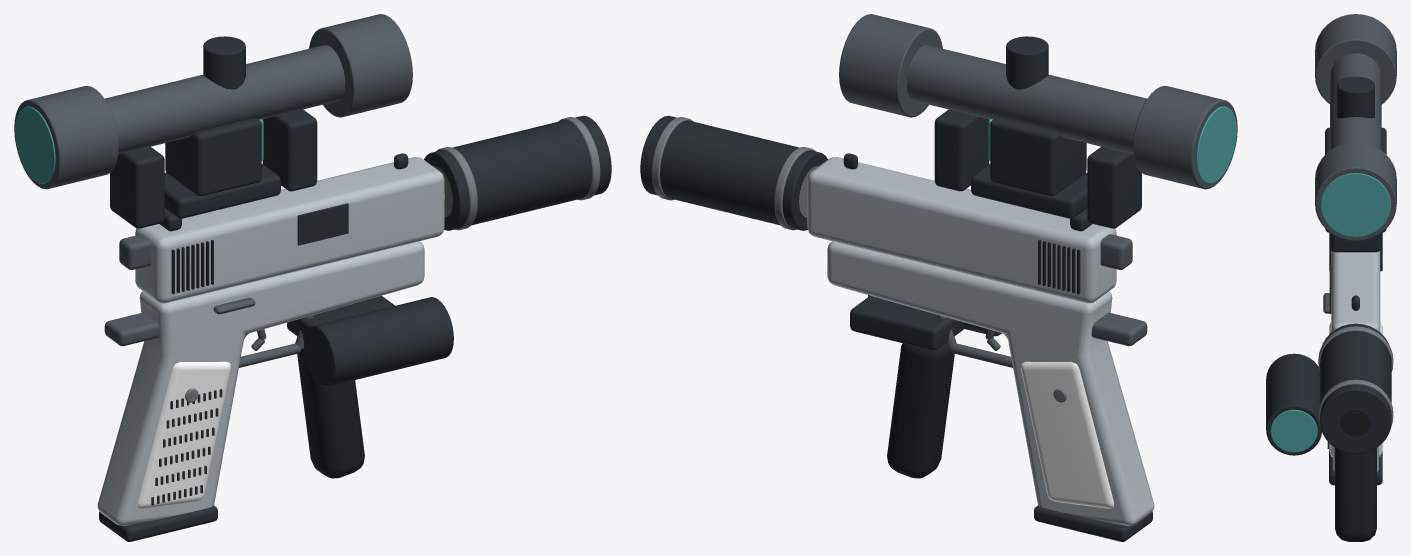
The picture shows the model from 3 angles, left to right: view 1: azimuth 30°, elevation 25°; view 2: azimuth 150°, elevation 25°; view 3: azimuth 270°, elevation 25°; orthographic projection. The views are drawn at different scales.
Visible parts, largest first — view 1: Pistol frame.001, Slide.001, optic_scope_tube.006, muzzle_suppressor.004, under_light_body.003, Grip panels.001, optic_scope_bell.013, optic_scope_bell.012, optic_red_body.006, under_grip_body.003, optic_scope_mount.012, optic_scope_mount.013 (+10 smaller); view 2: Pistol frame.001, Slide.001, optic_scope_tube.006, muzzle_suppressor.004, Grip panels.001, under_grip_body.003, optic_scope_bell.013, optic_scope_bell.012, optic_red_body.006, optic_scope_mount.012, optic_scope_mount.013, under_grip_mount.003 (+8 smaller); view 3: muzzle_suppressor.004, optic_scope_bell.012, under_grip_body.003, Slide.001, optic_scope_glass.013, under_light_body.003, optic_scope_bell.013, optic_scope_tube.006, under_light_lens.003, optic_scope_turret.006, optic_scope_mount.013, muzzle_suppressor_bore.004 (+4 smaller).
Part boxes in pixels (x1,y1,x2,y2): Pistol frame.001: (97, 241, 424, 525); Slide.001: (135, 157, 444, 303); optic_scope_tube.006: (105, 45, 345, 154); muzzle_suppressor.004: (424, 115, 611, 230); under_light_body.003: (304, 297, 453, 386); Grip panels.001: (138, 361, 231, 508); optic_scope_bell.013: (309, 14, 412, 117); optic_scope_bell.012: (14, 85, 118, 189); optic_red_body.006: (165, 118, 261, 196); under_grip_body.003: (297, 349, 364, 478); optic_scope_mount.012: (110, 146, 164, 228); optic_scope_mount.013: (262, 109, 317, 191); Pistol frame.001: (827, 241, 1154, 525); Slide.001: (807, 157, 1116, 303); optic_scope_tube.006: (906, 45, 1146, 154); muzzle_suppressor.004: (640, 115, 827, 230); Grip panels.001: (1020, 361, 1113, 508); under_grip_body.003: (887, 343, 954, 478); optic_scope_bell.013: (839, 14, 942, 117); optic_scope_bell.012: (1133, 85, 1237, 189); optic_red_body.006: (990, 118, 1086, 196); optic_scope_mount.012: (1087, 146, 1141, 228); optic_scope_mount.013: (934, 109, 989, 191); under_grip_mount.003: (850, 295, 964, 350); muzzle_suppressor.004: (1320, 323, 1391, 453); optic_scope_bell.012: (1315, 14, 1396, 104); under_grip_body.003: (1335, 448, 1376, 541); Slide.001: (1331, 250, 1380, 332); optic_scope_glass.013: (1320, 173, 1391, 237); under_light_body.003: (1266, 353, 1321, 455); optic_scope_bell.013: (1315, 142, 1396, 241); optic_scope_tube.006: (1330, 53, 1381, 150); under_light_lens.003: (1270, 409, 1317, 452); optic_scope_turret.006: (1336, 76, 1374, 118); optic_scope_mount.013: (1330, 233, 1380, 252); muzzle_suppressor_bore.004: (1340, 408, 1370, 436).
Bounding box in the file's own units: 1.03 × 0.809 × 0.233.
